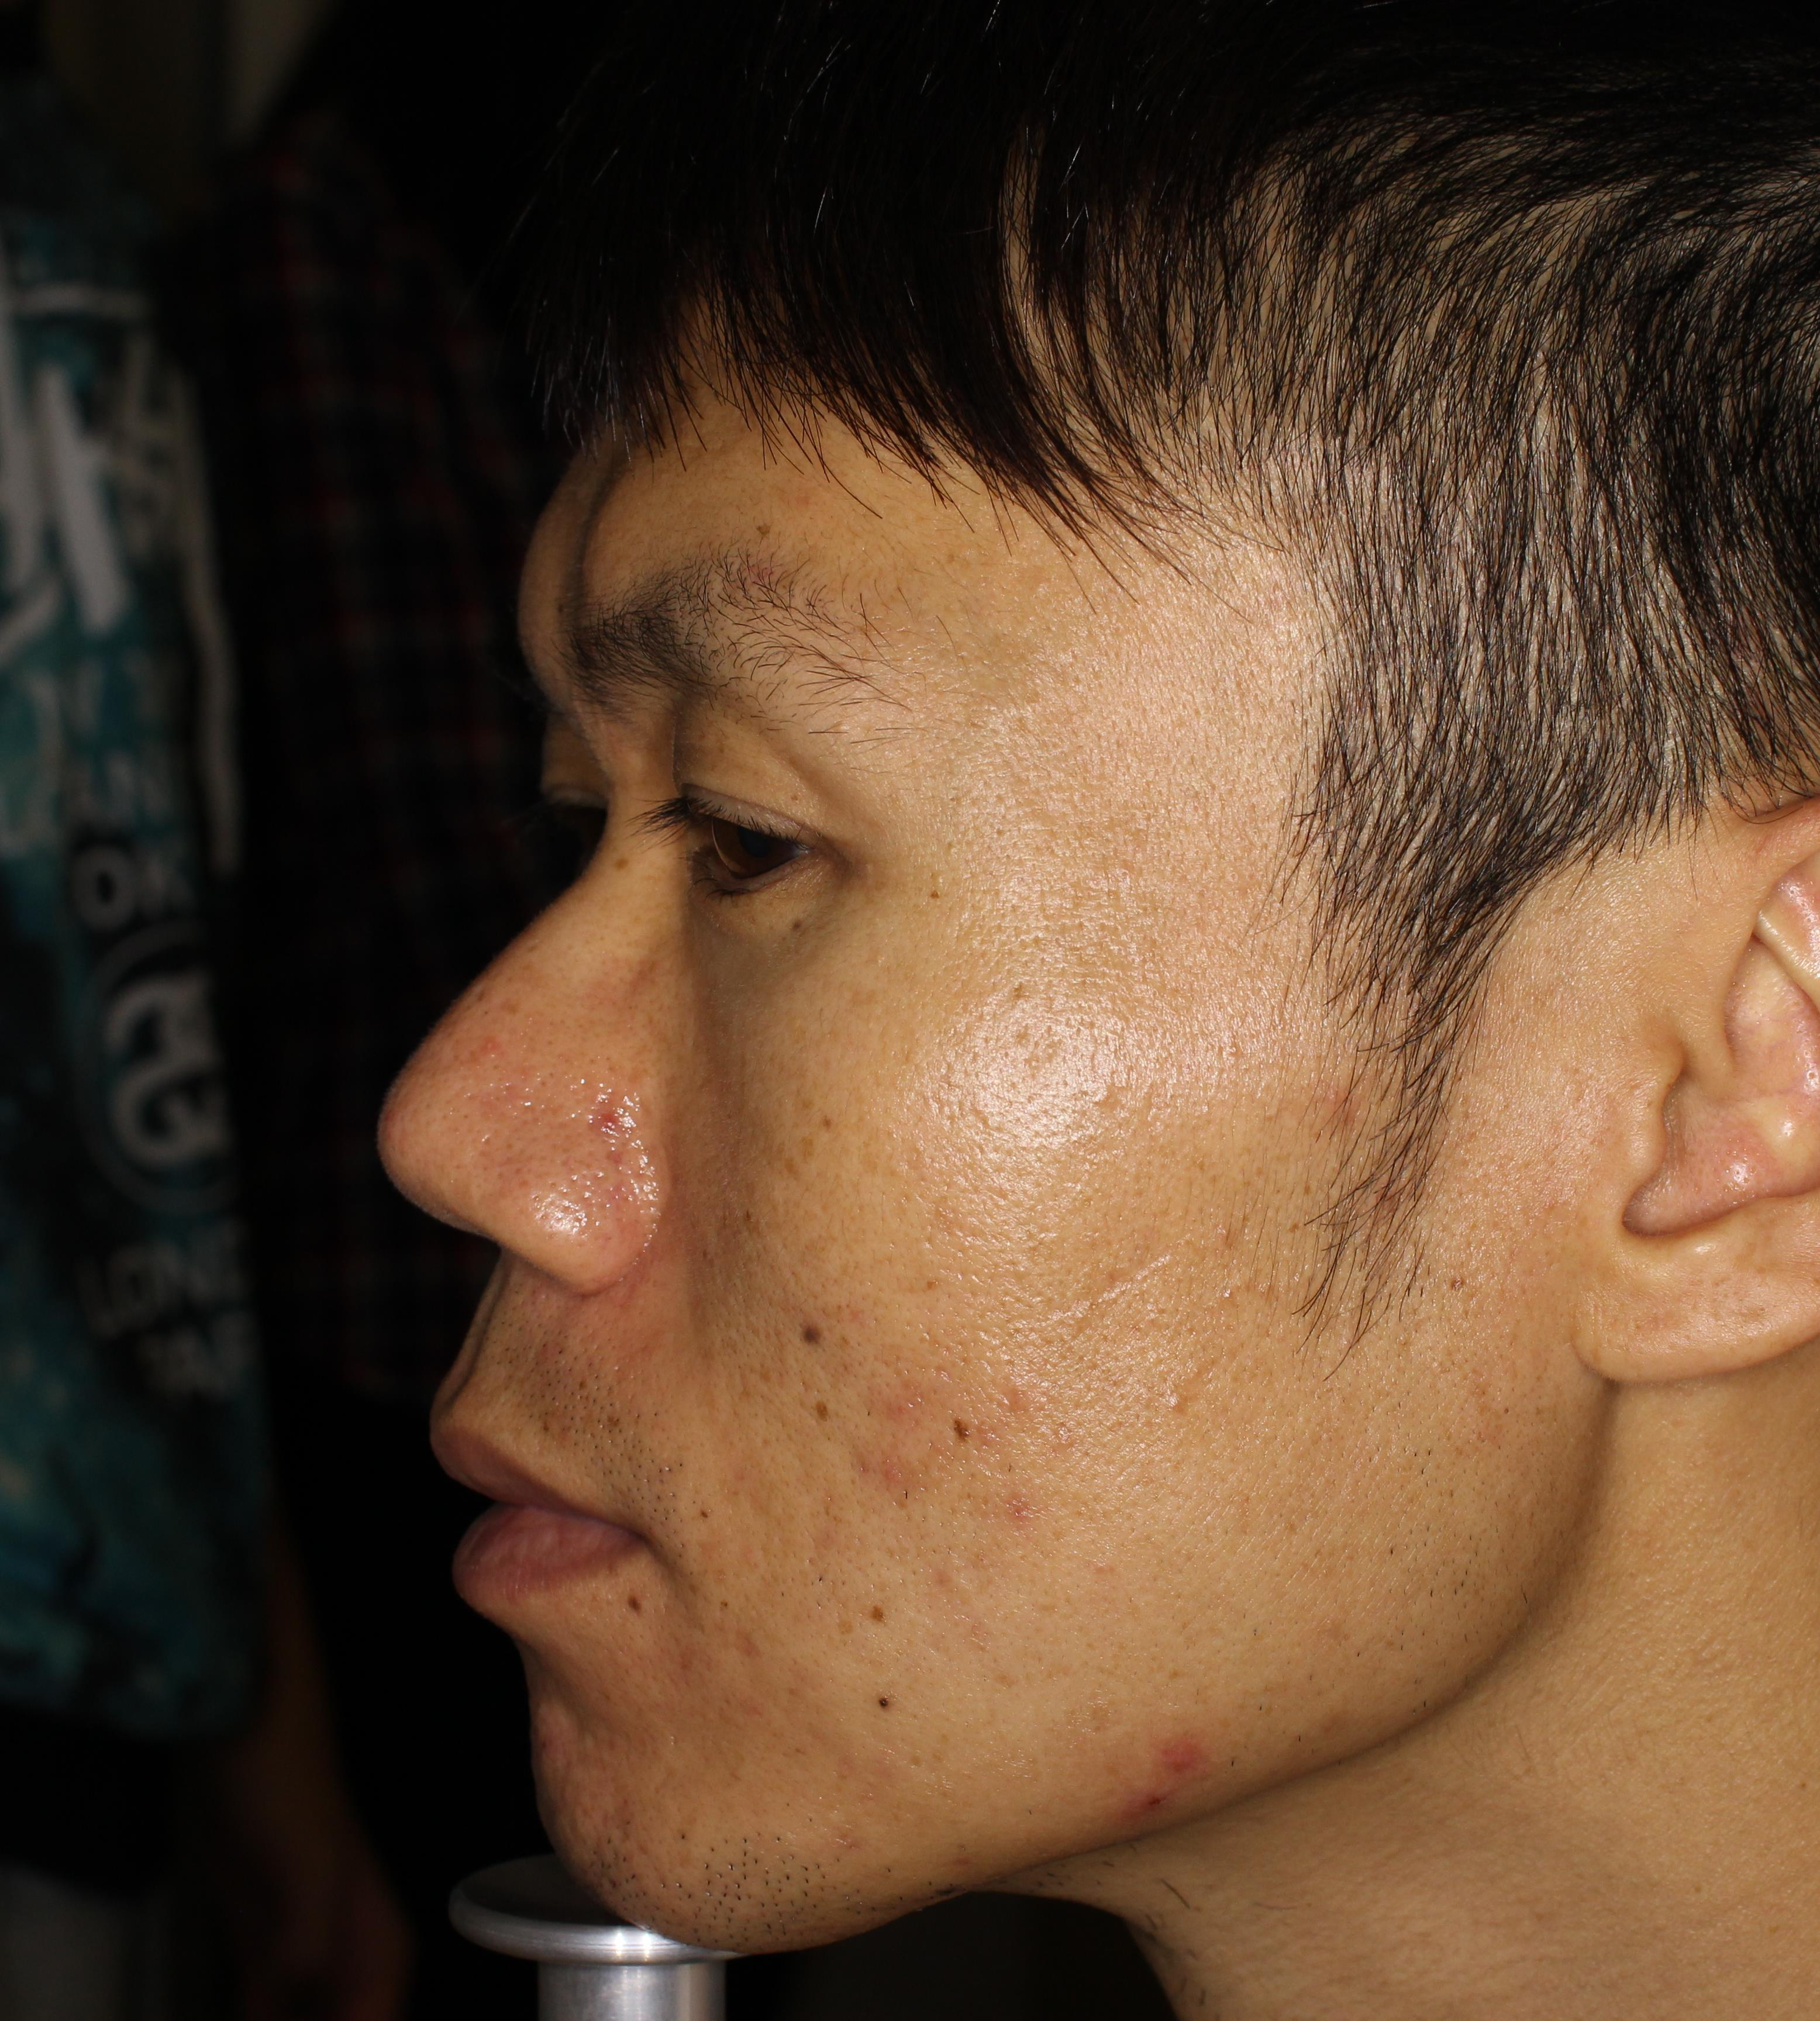fore: (843, 1433, 942, 1522), (1144, 1724, 1224, 1800), (861, 1366, 942, 1442)
